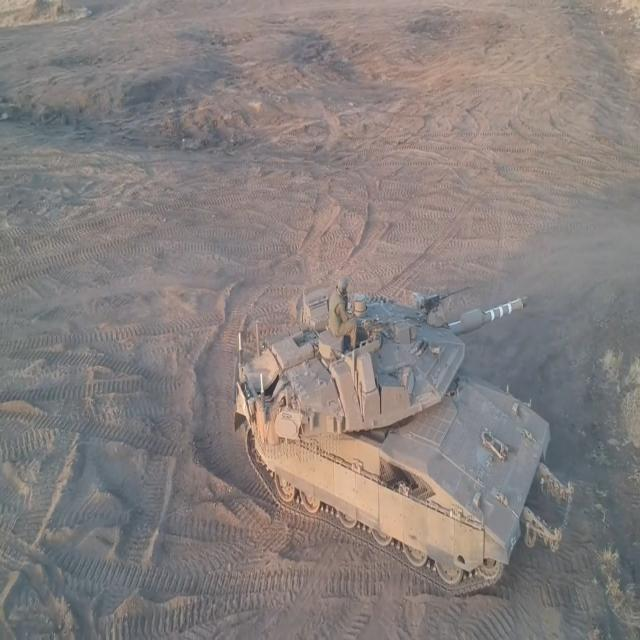tank: (230, 251, 577, 608)
